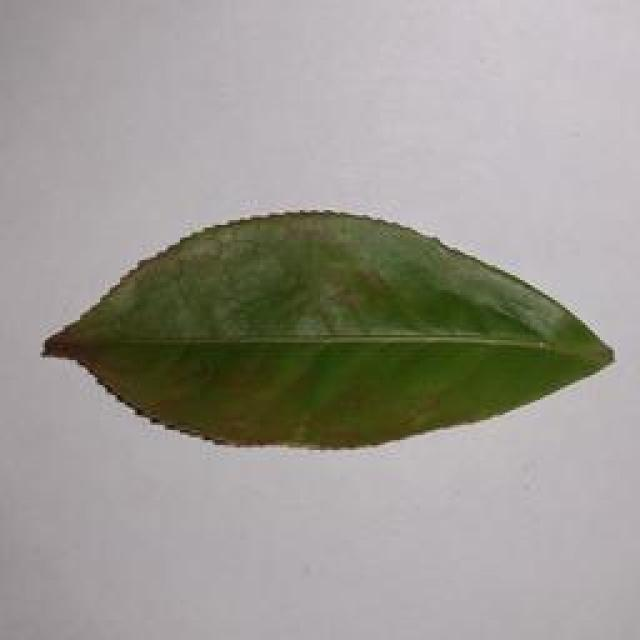Red Leaf Spot: (29, 195, 615, 451)
